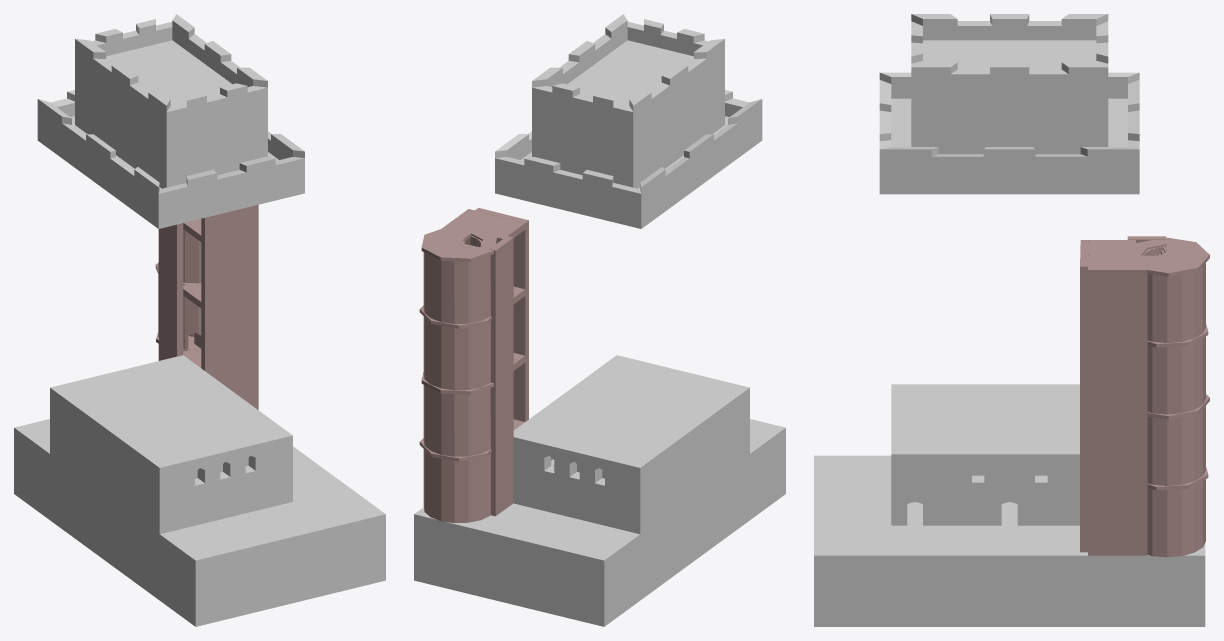
Rendered from floor1test1.1.glb.
3 views of the same model, side by side, from view 1: azimuth 30°, elevation 25°; view 2: azimuth 150°, elevation 25°; view 3: azimuth 270°, elevation 25° (orthographic). The views are drawn at different scales.
Visible parts, largest first — view 1: Cube.056, Cube.083, Cylinder.028, Cube.086; view 2: Cube.056, Cylinder.028, Cube.083, Cube.086; view 3: Cube.056, Cylinder.028, Cube.083, Cube.086.
Part boxes in pixels (x1,y1,x2,y2): Cube.056: (14,14,385,626); Cube.083: (50,355,292,534); Cylinder.028: (155,204,258,409); Cube.086: (70,363,272,459); Cube.056: (414,14,785,626); Cylinder.028: (419,207,528,522); Cube.083: (513,355,749,534); Cube.086: (527,363,729,459); Cube.056: (814,14,1205,626); Cylinder.028: (1080,236,1209,557); Cube.083: (891,384,1079,525); Cube.086: (907,391,1079,447).
Size of the model in its own units: 32.09 by 73 by 50.21.
